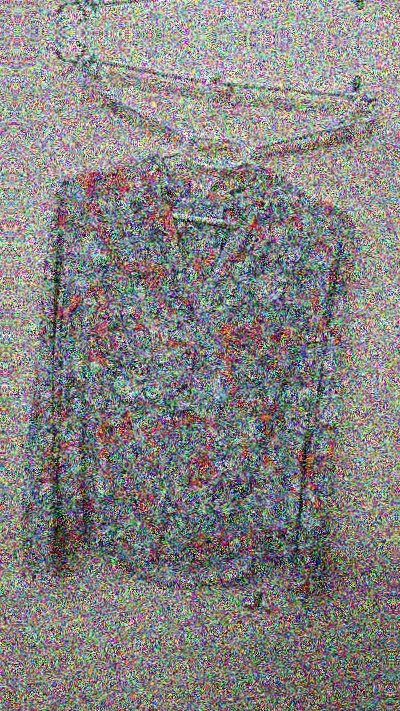Blouse: (11, 79, 360, 633)
